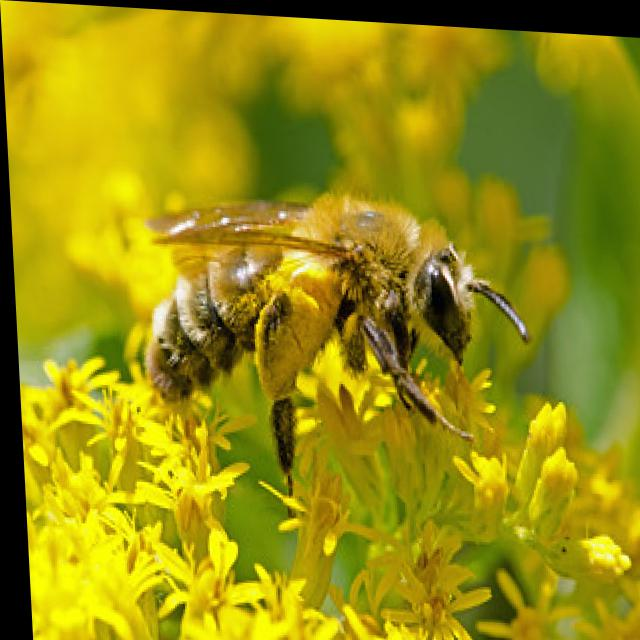Abeille: (96, 146, 562, 466)
